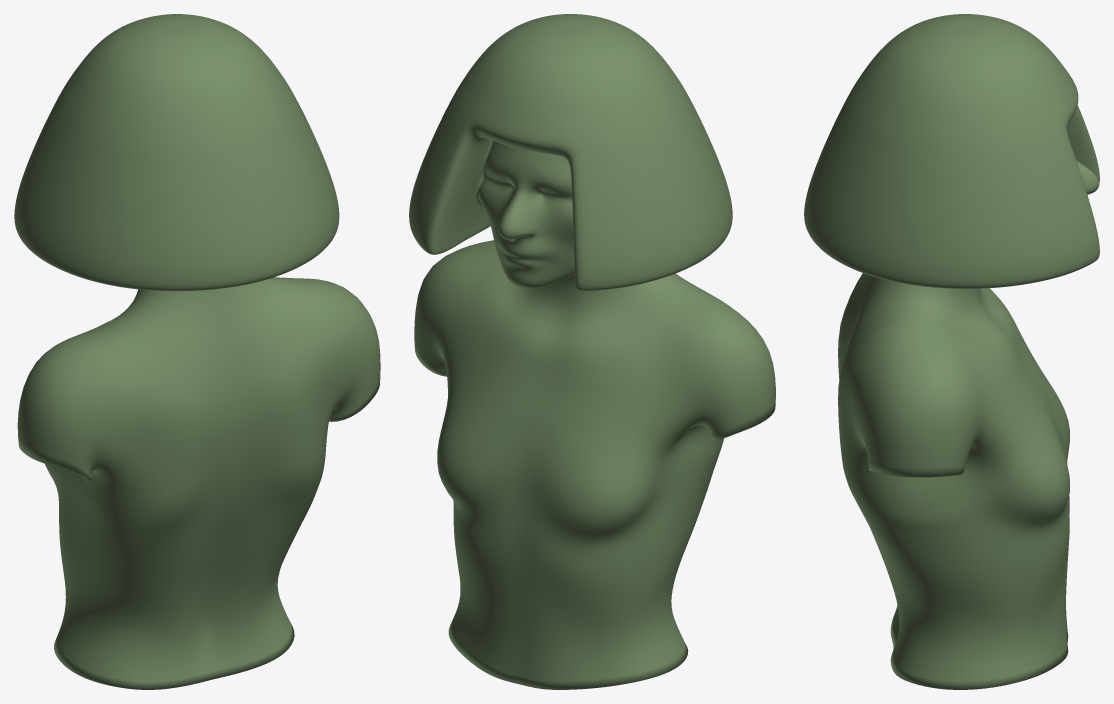
File: mellszobor.glb
3 renders of one model, left to right at view 1: azimuth 30°, elevation 25°; view 2: azimuth 150°, elevation 25°; view 3: azimuth 270°, elevation 25°, orthographic.
Parts seen in each view (by area): view 1: Retopo_asd.002; view 2: Retopo_asd.002; view 3: Retopo_asd.002.
Part boxes in pixels (x1,y1,x2,y2): Retopo_asd.002: (14,14,380,689); Retopo_asd.002: (409,14,775,689); Retopo_asd.002: (804,14,1099,689).
Size of the model in its own units: 2.89 by 4.98 by 2.15.
